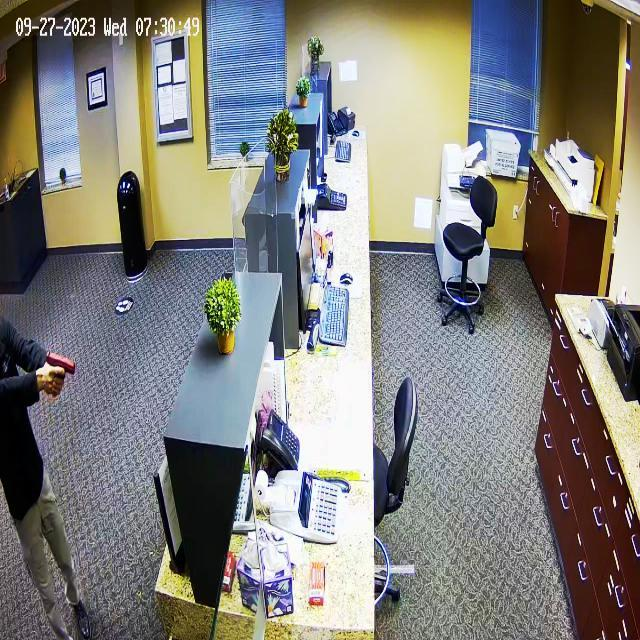Gun: (28, 344, 84, 390)
